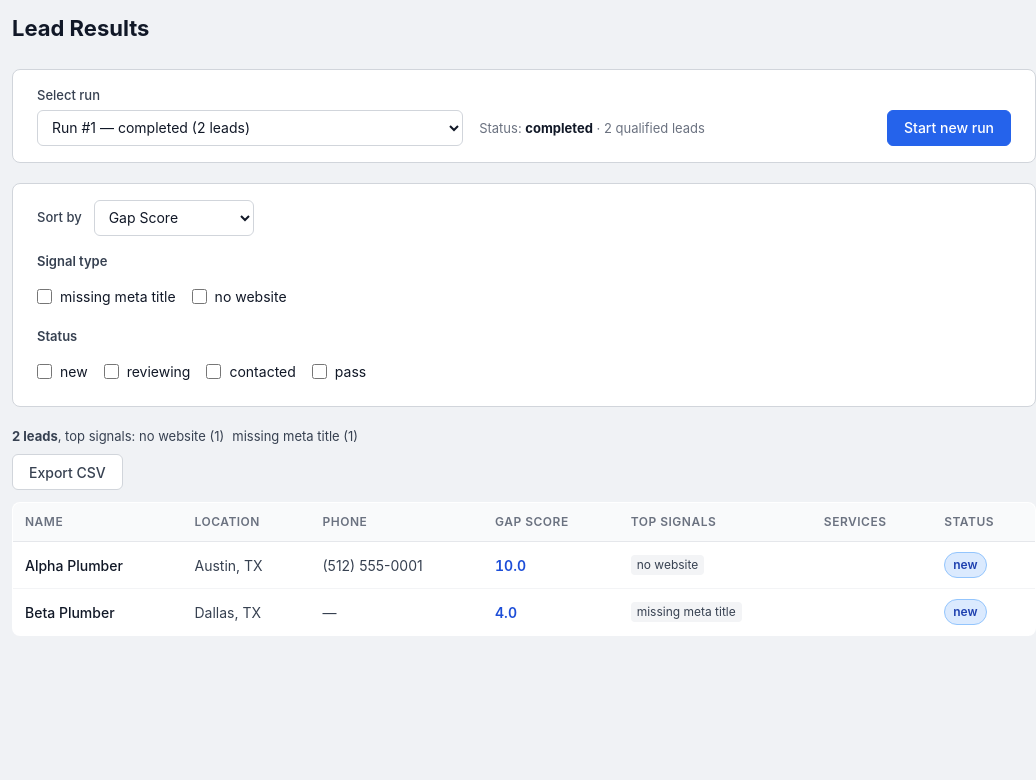
LeadResults â€” run selector › switches leads when a different run is selected
Expected: the text "Alpha Plumber" is shown, [12,542,182,589]
Select "Run #2 — completed (1 leads)" in the dropdown labelled "Select run" at (250, 128), box [37,110,463,146]
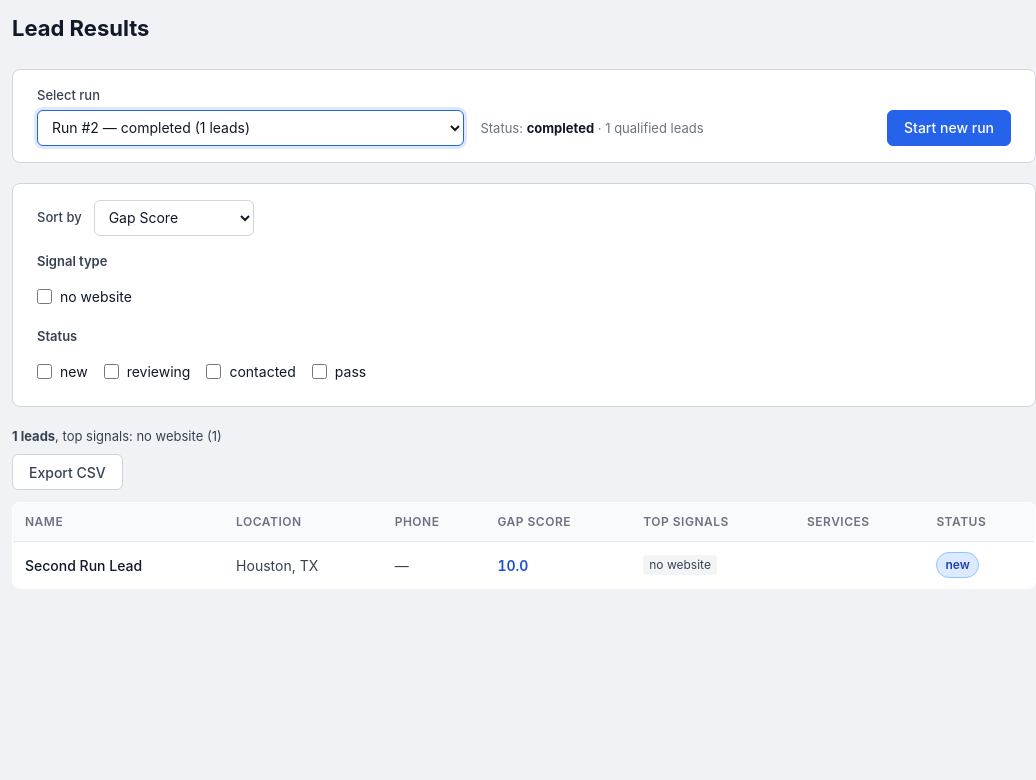
Result: the text "Second Run Lead" is shown at [12,542,224,589]
Result: the text "Alpha Plumber" is gone
